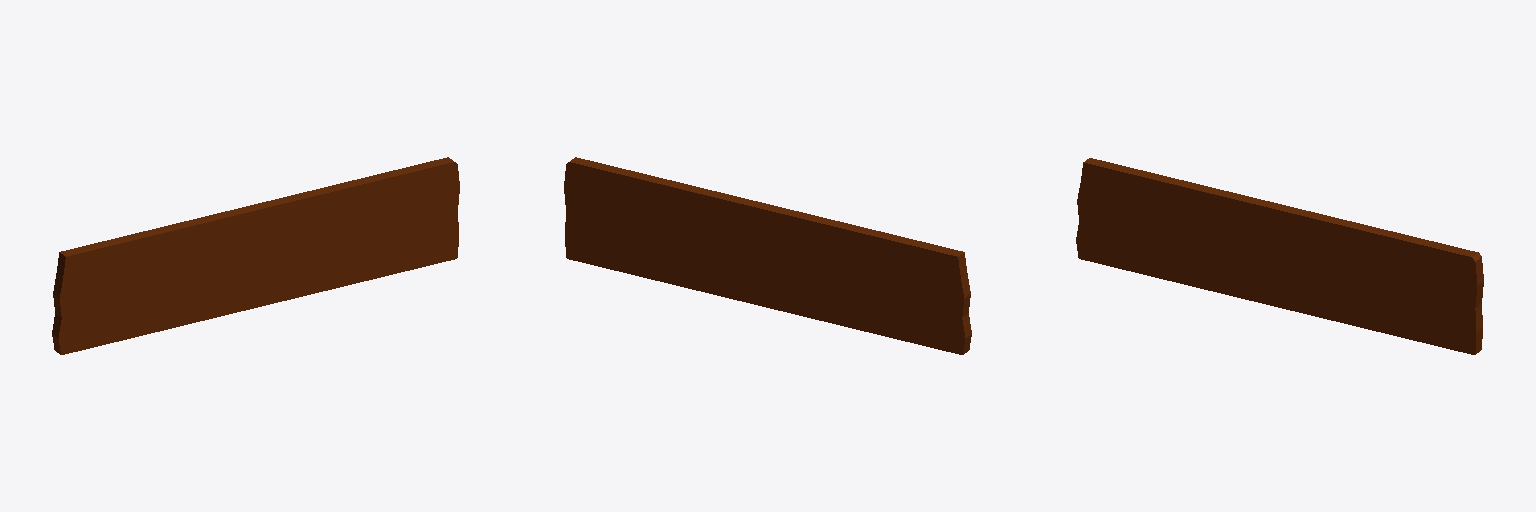
Rendered from MenuButton1.obj.
The picture shows the model from 3 angles: view 1: azimuth 30°, elevation 25°; view 2: azimuth 150°, elevation 25°; view 3: azimuth 330°, elevation 25°; orthographic projection.
Parts seen in each view (by area): view 1: Object.1; view 2: Object.1; view 3: Object.1.
Part boxes in pixels (left/top/right/bottom): Object.1: left=52, top=157, right=459, bottom=354; Object.1: left=564, top=157, right=971, bottom=354; Object.1: left=1076, top=158, right=1483, bottom=354.
Size of the model in its own units: 27.31 by 6.34 by 0.7757.